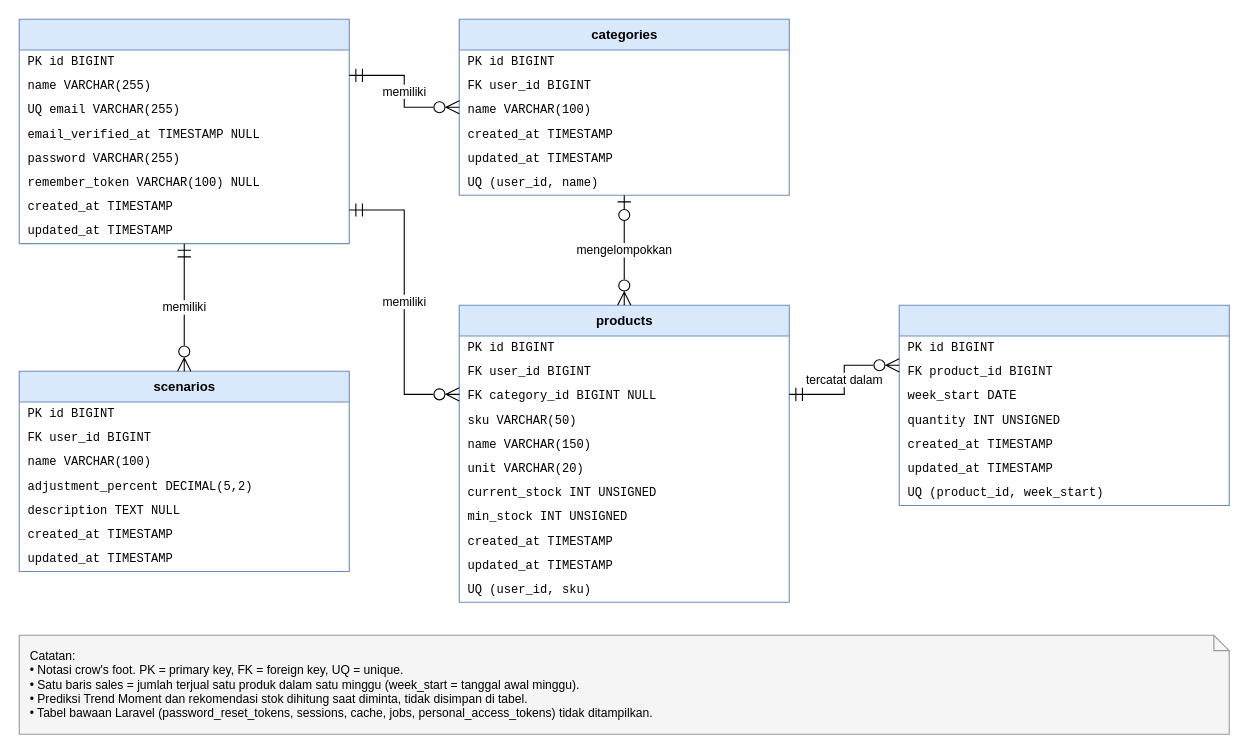
Image size: 1249x754. Some labels were removed from this diagram. The box of each missing label's shape, as (x1, y1, x2, y2) in pixels:
sales: (898, 304, 1229, 505)
users: (18, 18, 349, 244)
